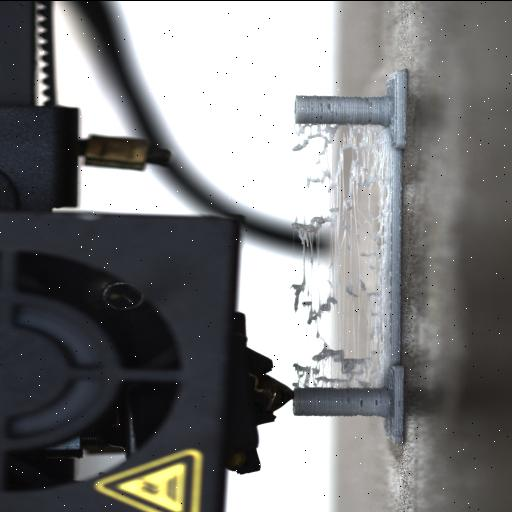stringing: (292, 124, 388, 388)
